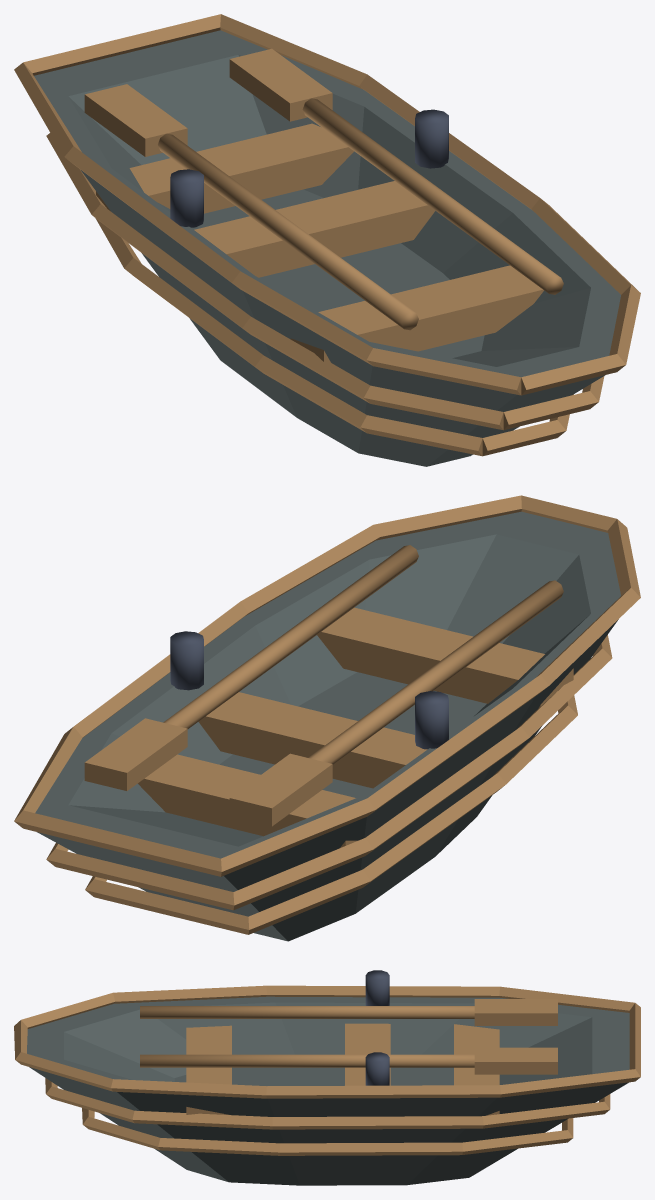
Rendered from rowboat.glb.
The picture shows the model from 3 angles, top to bottom: view 1: azimuth 30°, elevation 25°; view 2: azimuth 150°, elevation 25°; view 3: azimuth 270°, elevation 25°; orthographic projection. The views are drawn at different scales.
Parts seen in each view (by area): view 1: Rowboat_hollow_hull, Rowboat_hull_strake, Rowboat_thwart.001, Rowboat_hull_strake.001, Rowboat_thwart, Rowboat_hull_strake.002, Rowboat_thwart.002, Rowboat_stowed_oar.001, Rowboat_stowed_oar, Rowboat_oar_blade, Rowboat_oar_blade.001, Rowboat_oarlock.001 (+1 smaller); view 2: Rowboat_hollow_hull, Rowboat_hull_strake, Rowboat_hull_strake.001, Rowboat_thwart, Rowboat_thwart.001, Rowboat_hull_strake.002, Rowboat_thwart.002, Rowboat_stowed_oar.001, Rowboat_stowed_oar, Rowboat_oar_blade, Rowboat_oar_blade.001, Rowboat_oarlock.001 (+1 smaller); view 3: Rowboat_hollow_hull, Rowboat_hull_strake, Rowboat_hull_strake.001, Rowboat_hull_strake.002, Rowboat_stowed_oar.001, Rowboat_stowed_oar, Rowboat_oar_blade.001, Rowboat_thwart, Rowboat_oar_blade, Rowboat_thwart.001, Rowboat_thwart.002, Rowboat_oarlock (+1 smaller).
Part boxes in pixels (x1,y1,x2,y2): Rowboat_hollow_hull: [34, 30, 620, 466]; Rowboat_hull_strake: [14, 14, 640, 395]; Rowboat_thwart.001: [194, 181, 434, 277]; Rowboat_hull_strake.001: [46, 133, 604, 430]; Rowboat_thwart: [290, 265, 543, 362]; Rowboat_hull_strake.002: [95, 218, 573, 456]; Rowboat_thwart.002: [96, 123, 353, 213]; Rowboat_stowed_oar.001: [302, 98, 563, 294]; Rowboat_stowed_oar: [158, 133, 418, 330]; Rowboat_oar_blade: [84, 84, 187, 156]; Rowboat_oar_blade.001: [229, 48, 332, 121]; Rowboat_oarlock.001: [415, 109, 448, 168]; Rowboat_hollow_hull: [35, 511, 620, 941]; Rowboat_hull_strake: [14, 495, 640, 876]; Rowboat_hull_strake.001: [46, 635, 612, 910]; Rowboat_thwart: [317, 607, 573, 708]; Rowboat_thwart.001: [198, 692, 427, 788]; Rowboat_hull_strake.002: [85, 695, 577, 934]; Rowboat_thwart.002: [138, 754, 357, 847]; Rowboat_stowed_oar.001: [163, 545, 418, 728]; Rowboat_stowed_oar: [308, 580, 563, 764]; Rowboat_oar_blade: [229, 753, 332, 826]; Rowboat_oar_blade.001: [84, 718, 187, 790]; Rowboat_oarlock.001: [170, 631, 203, 690]; Rowboat_hollow_hull: [27, 996, 629, 1185]; Rowboat_hull_strake: [14, 985, 640, 1098]; Rowboat_hull_strake.001: [45, 1078, 610, 1129]; Rowboat_hull_strake.002: [82, 1108, 573, 1155]; Rowboat_stowed_oar.001: [140, 1054, 474, 1067]; Rowboat_stowed_oar: [140, 1006, 474, 1018]; Rowboat_oar_blade.001: [474, 1047, 557, 1074]; Rowboat_thwart: [186, 1025, 231, 1114]; Rowboat_oar_blade: [474, 999, 557, 1025]; Rowboat_thwart.001: [345, 1023, 390, 1085]; Rowboat_thwart.002: [454, 1024, 499, 1115]; Rowboat_oarlock: [365, 970, 389, 1005].
Size of the model in its own units: 1.27 by 0.815 by 3.16.
